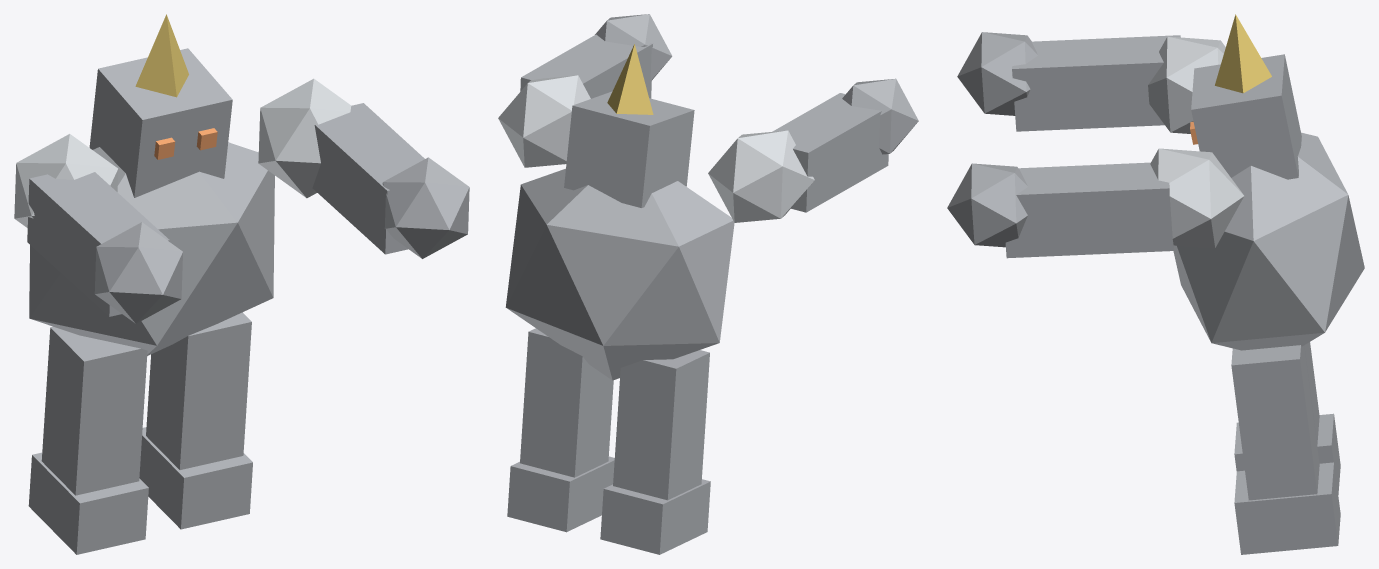
File: npcpose_golem_walk_10.glb
The picture shows the model from 3 angles, left to right: view 1: azimuth 30°, elevation 25°; view 2: azimuth 150°, elevation 25°; view 3: azimuth 270°, elevation 25°; orthographic projection. The views are drawn at different scales.
Parts seen in each view (by area): view 1: npcpose; view 2: npcpose; view 3: npcpose.
Part boxes in pixels (x1=…): npcpose: x1=14, y1=14, x2=469, y2=554; npcpose: x1=498, y1=14, x2=918, y2=554; npcpose: x1=947, y1=14, x2=1364, y2=554.
Bounding box in the file's own units: 1.39 × 1.92 × 1.45.
